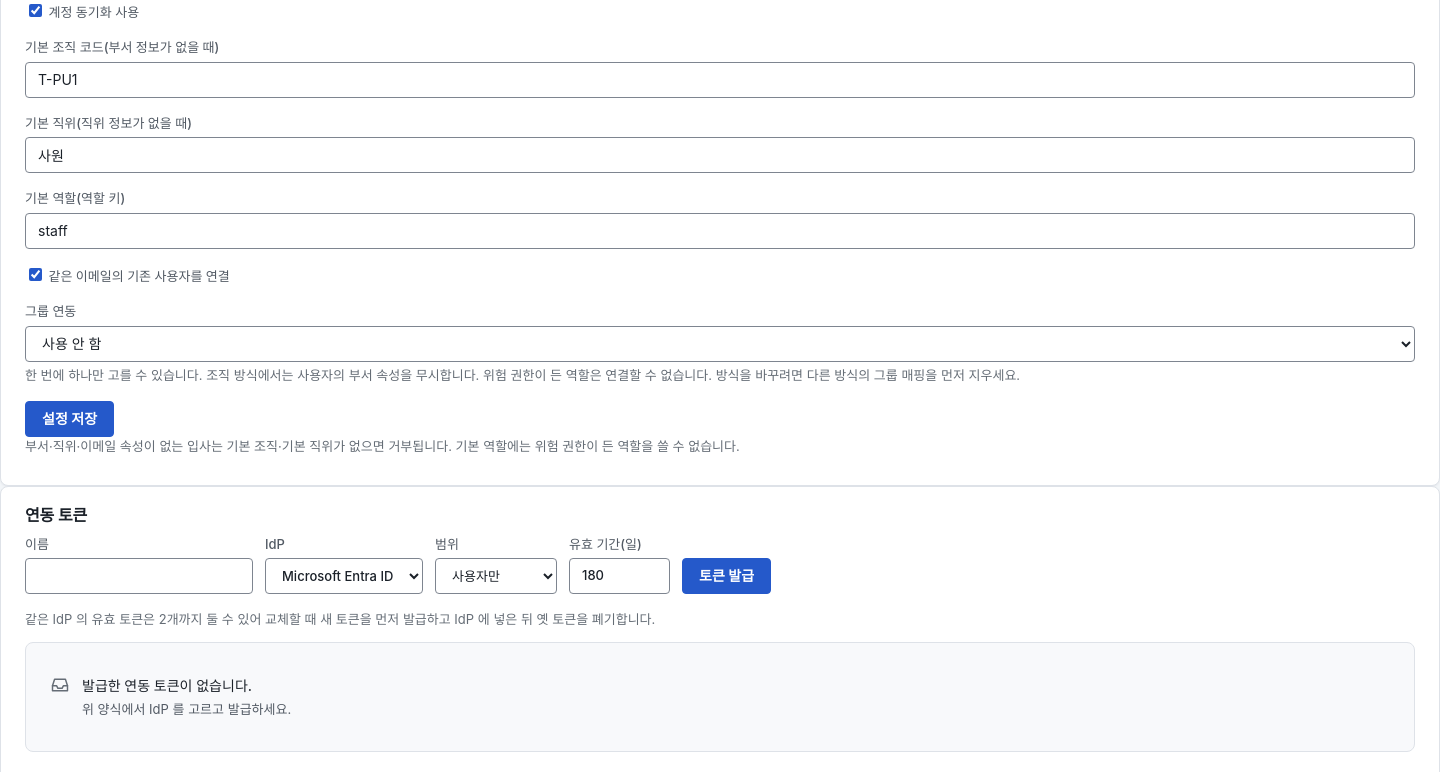
Test: 계정 동기화(SCIM) 화면 › 상한 초과 같은 서버 거부는 업무 문구로 보인다
The image size is (1440, 772).
(page scrolled)
Type "셋째" into the field labelled "이름" at coordinates (139, 576), box [25,558,253,594]
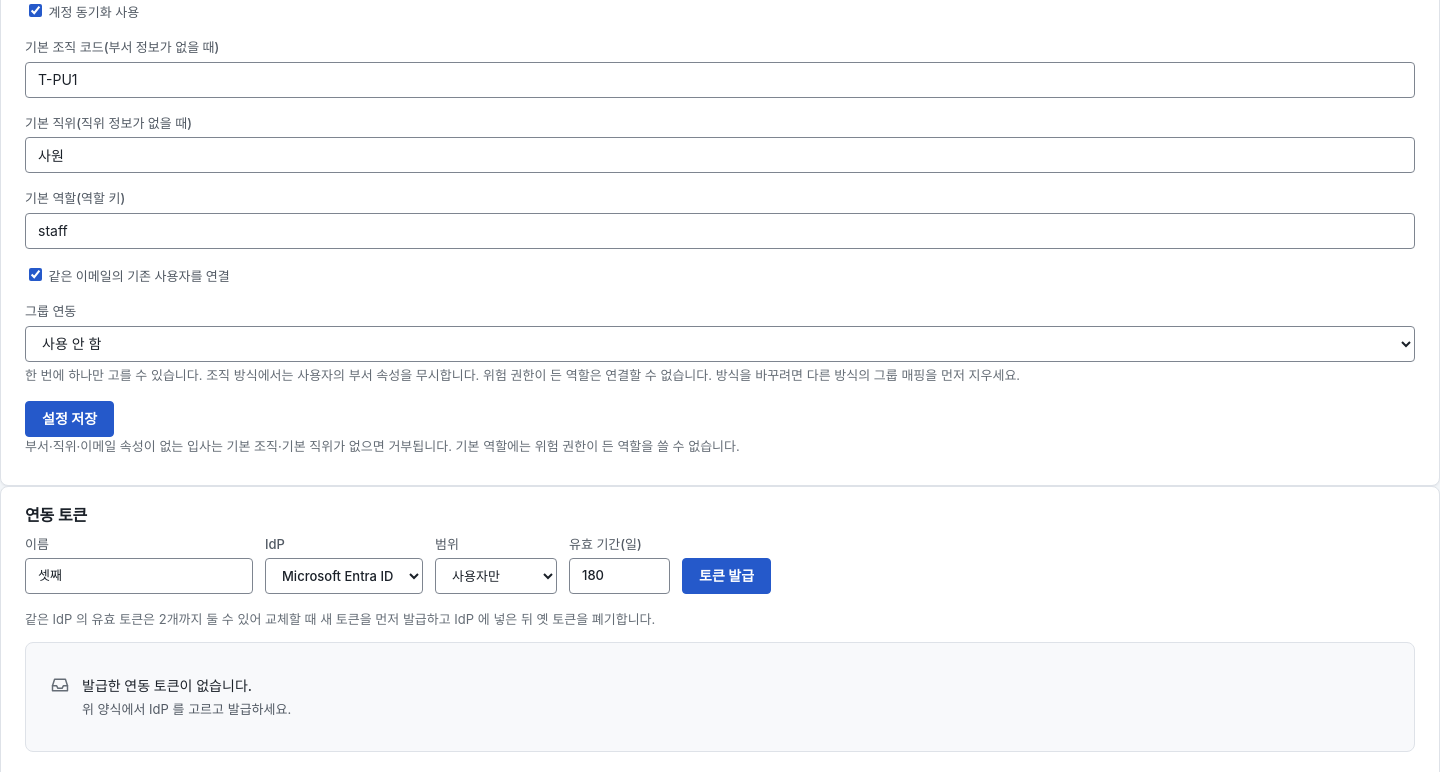
Click the button "토큰 발급" at coordinates (727, 576), box [682,558,771,594]
(page scrolled)
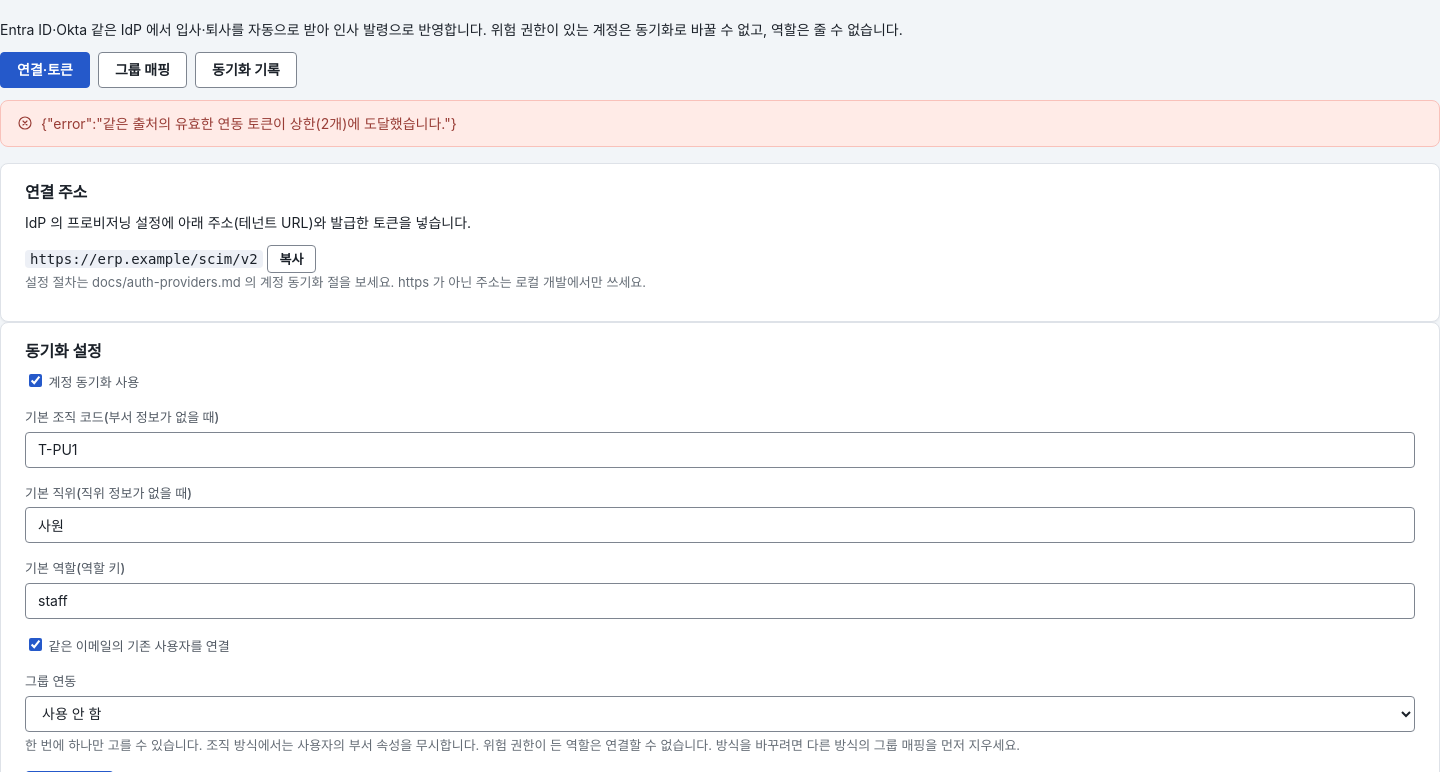
Check: the text "{\"error\":\"같은 출처의 유효한 연동 토큰이 상한(2개)에 도달했습니다.\"}" is shown, box [41,113,457,134]
